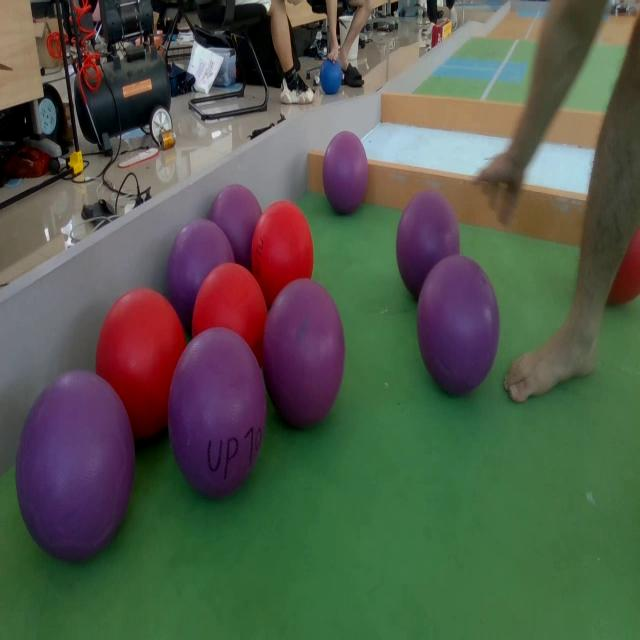invalid: (17, 368, 132, 552), (168, 328, 266, 497), (417, 252, 499, 399), (266, 278, 346, 424), (394, 185, 456, 291), (168, 224, 229, 318), (320, 129, 372, 218), (210, 184, 260, 263)
red: (96, 286, 184, 438), (193, 261, 269, 370), (251, 200, 314, 302)
